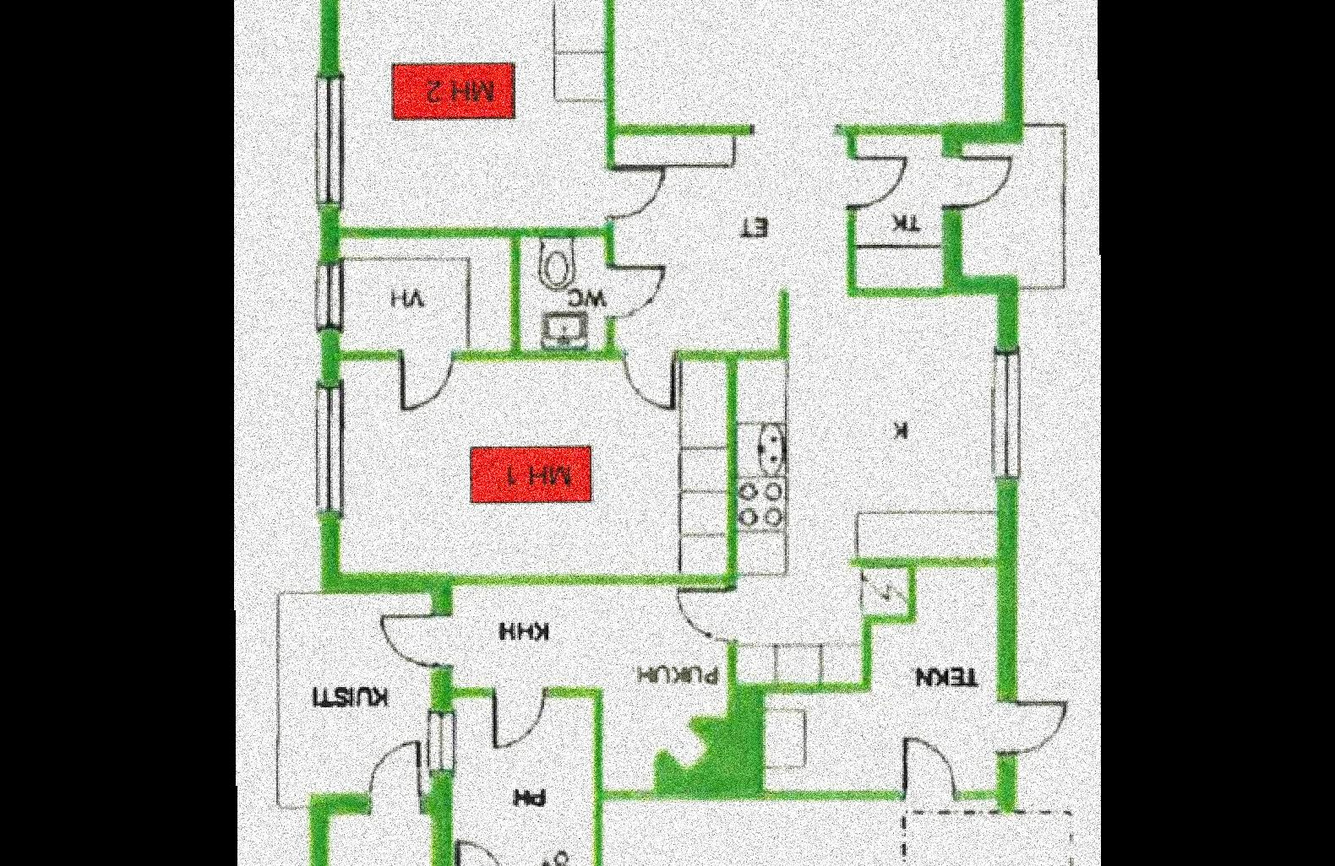door: (602, 158, 672, 225), (897, 726, 957, 802), (941, 150, 1016, 209), (604, 257, 673, 321), (368, 734, 422, 815), (490, 686, 549, 755), (664, 583, 733, 642), (618, 353, 679, 419), (399, 349, 459, 416), (375, 609, 439, 670), (994, 698, 1068, 748), (847, 151, 907, 211), (450, 826, 509, 866)
window: (990, 347, 1018, 481), (313, 380, 340, 513), (321, 77, 339, 207), (319, 264, 333, 328)
zone: (337, 353, 723, 579), (737, 293, 1004, 570), (338, 0, 599, 225), (442, 578, 735, 770), (607, 138, 879, 344), (761, 569, 1001, 795), (620, 0, 1010, 130), (276, 593, 434, 807), (602, 808, 1073, 866), (449, 694, 594, 866), (339, 240, 510, 352), (842, 133, 941, 287), (961, 135, 1058, 277), (516, 235, 604, 349), (324, 804, 432, 866)
